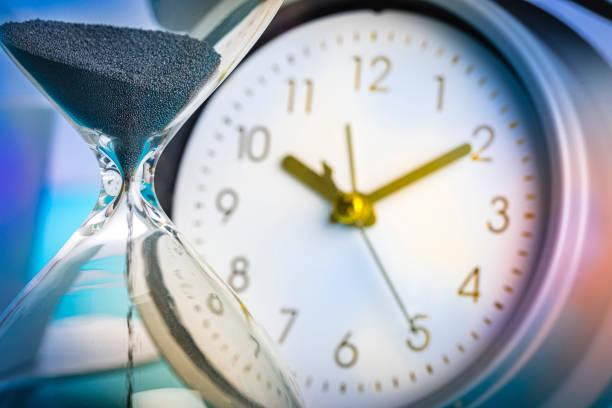clock: (147, 0, 572, 408)
